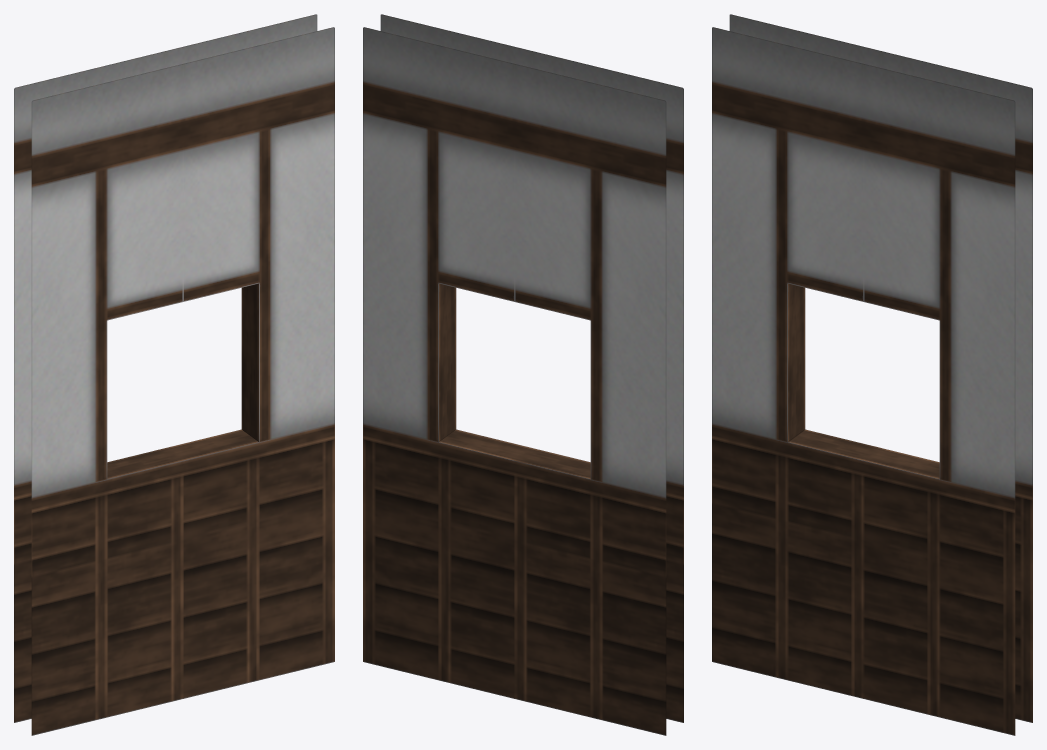
Rendered from house_wall_window.fbx.
3 views of the same model, side by side, from view 1: azimuth 30°, elevation 25°; view 2: azimuth 150°, elevation 25°; view 3: azimuth 330°, elevation 25° (orthographic).
Visible parts, largest first — view 1: house_wall_window; view 2: house_wall_window; view 3: house_wall_window.
Boxes of the visible parts, left/top/right/bottom form: house_wall_window: left=14, top=14, right=334, bottom=735; house_wall_window: left=363, top=14, right=683, bottom=735; house_wall_window: left=712, top=14, right=1032, bottom=735.
Bounding box in the file's own units: 200 × 400 × 20.
